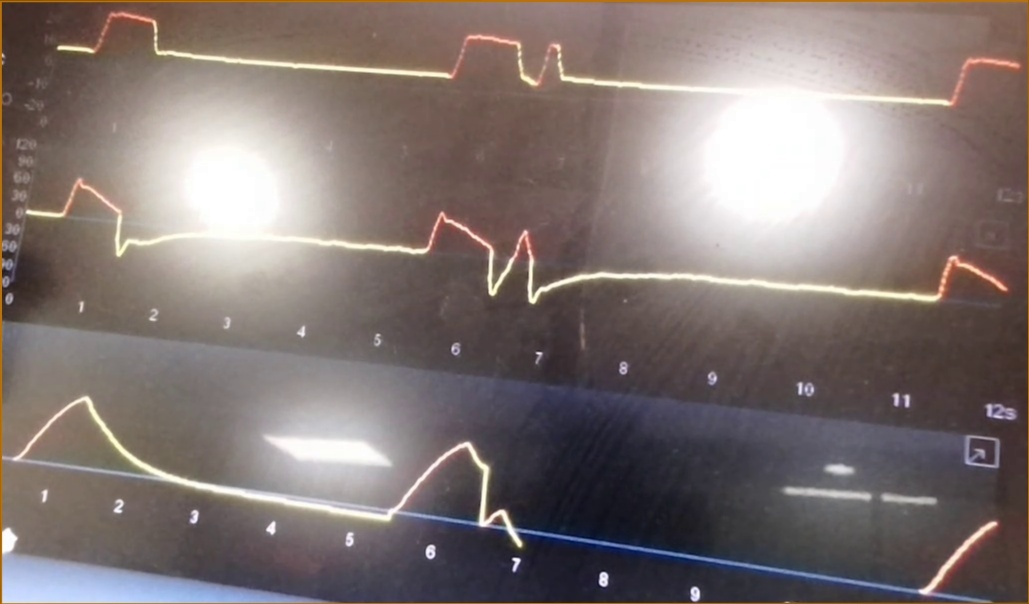Double_Triggering Flow: (30, 157, 1007, 327)
Double_Triggering Volume: (3, 389, 994, 600)
